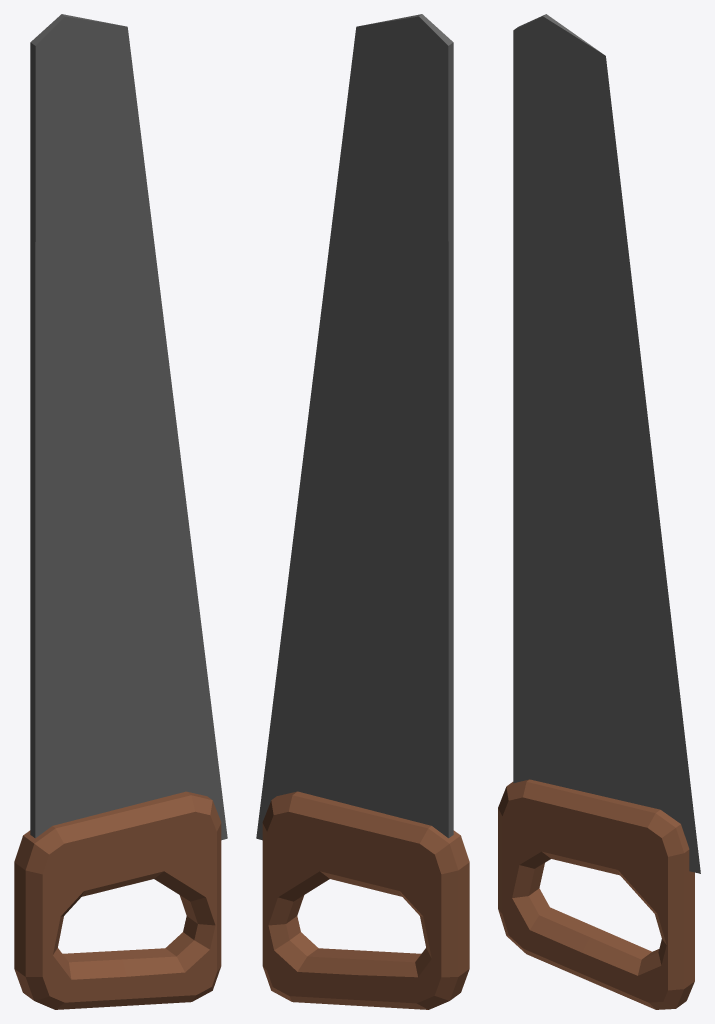
Rendered from SAw.fbx.
The picture shows the model from 3 angles, left to right: view 1: azimuth 30°, elevation 25°; view 2: azimuth 150°, elevation 25°; view 3: azimuth 330°, elevation 25°; orthographic projection. The views are drawn at different scales.
Visible parts, largest first — view 1: Saw; view 2: Saw; view 3: Saw.
Part boxes in pixels (left/top/right/bottom): Saw: left=14, top=14, right=227, bottom=1009; Saw: left=256, top=14, right=469, bottom=1009; Saw: left=498, top=14, right=700, bottom=1009.
Size of the model in its own units: 0.108 by 0.5028 by 0.0214.
1 material, 1 textured.
